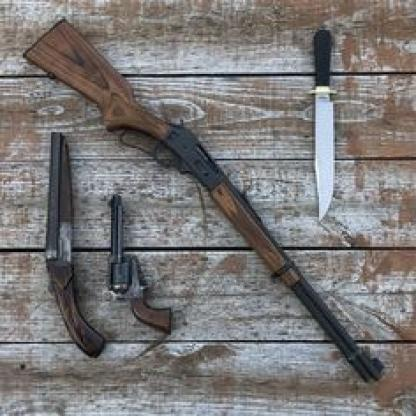Gun: (23, 17, 387, 386)
Knife: (307, 29, 340, 221)
Pistol: (40, 130, 107, 362), (105, 192, 173, 336)
